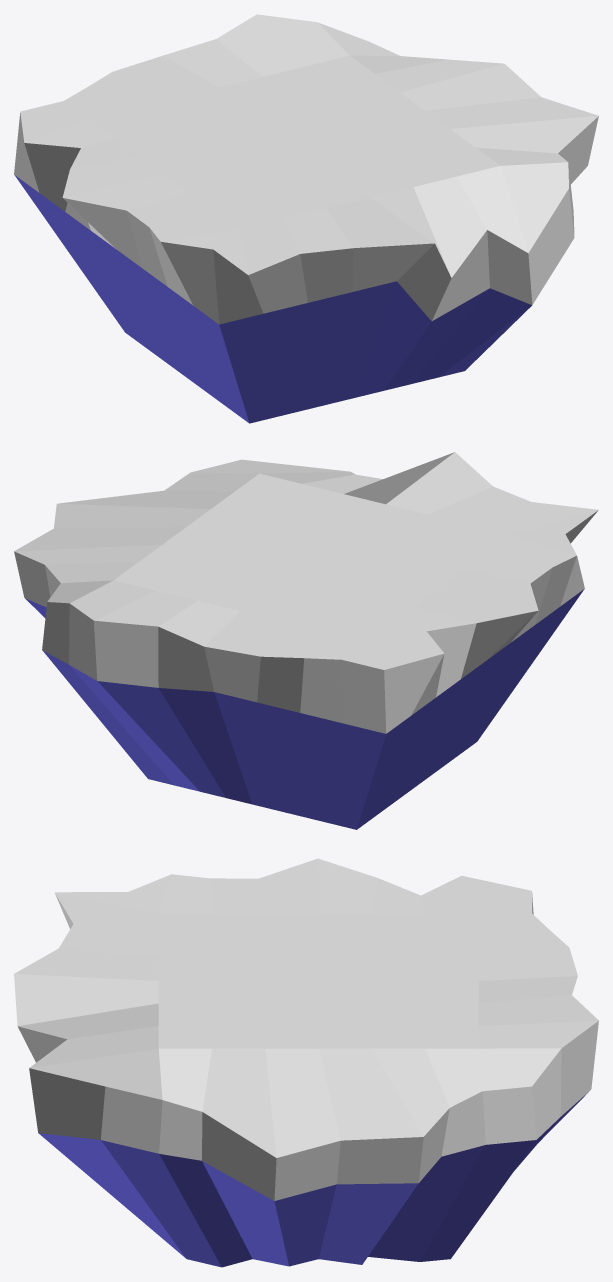
Rendered from dsa.fbx.
3 renders of one model, top to bottom at view 1: azimuth 30°, elevation 25°; view 2: azimuth 150°, elevation 25°; view 3: azimuth 270°, elevation 25°, orthographic. The views are drawn at different scales.
Parts seen in each view (by area): view 1: Plane; view 2: Plane; view 3: Plane.
Boxes of the visible parts, x1,y1,x2,y2 form: Plane: (14, 14, 598, 423); Plane: (14, 452, 598, 829); Plane: (14, 858, 598, 1267).
Size of the model in its own units: 297 by 120 by 274.
